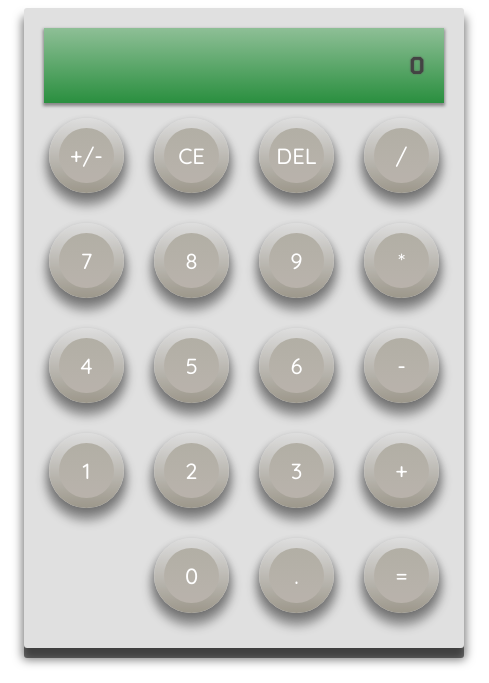
Scenario: Tests For Operations › 5 minus 3 gives 2.
The width and height of the screenshot is (489, 683).
Click the element showing "5": (192, 366) [154,328,229,403]
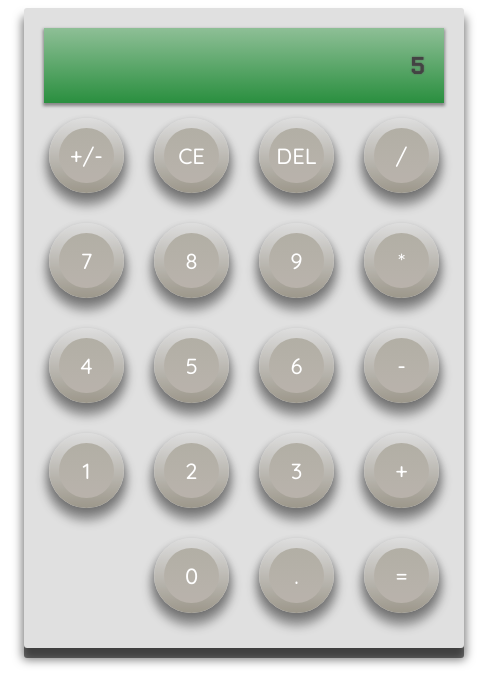
Click the element showing "-": (402, 366) [364,328,439,403]
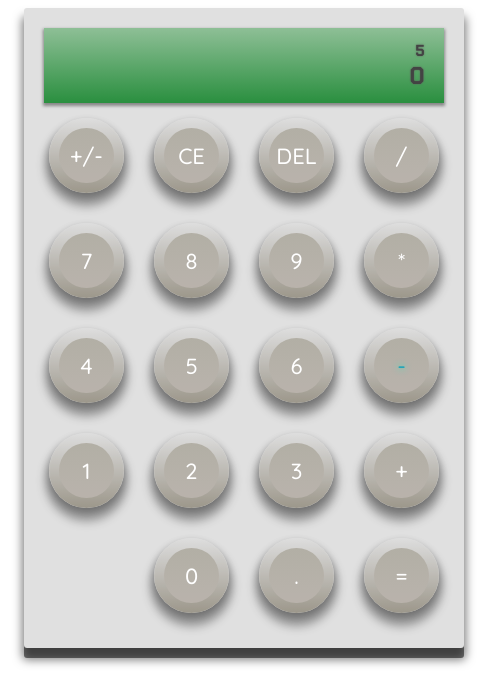
Click the element showing "3": (296, 470) [259,433,334,508]
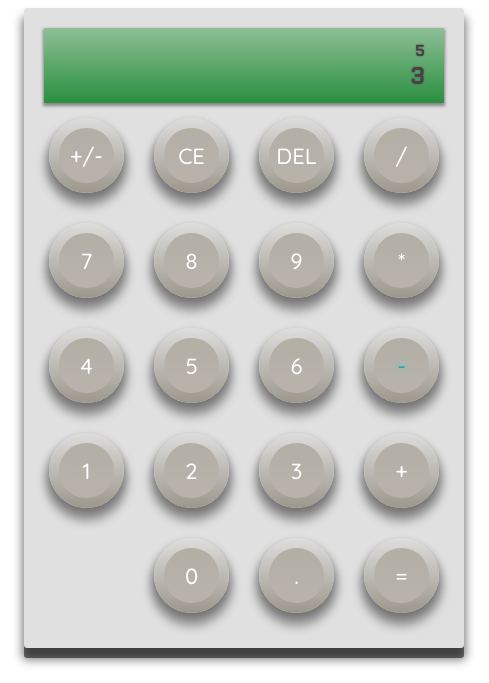
Click the element showing "=": (402, 576) [364,538,439,613]
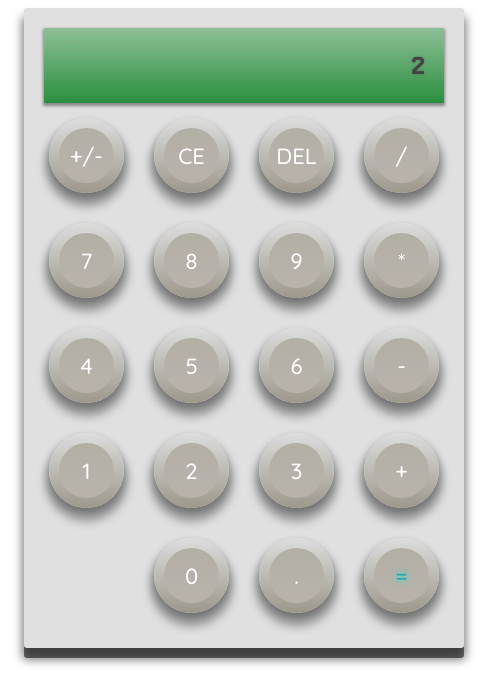
Check: the 1st text "2" is shown, box [411,50,424,80]
